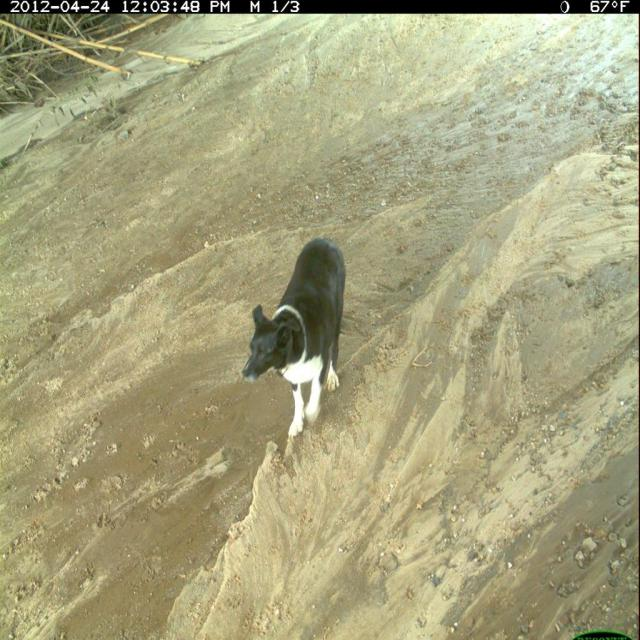dog: (239, 236, 351, 445)
